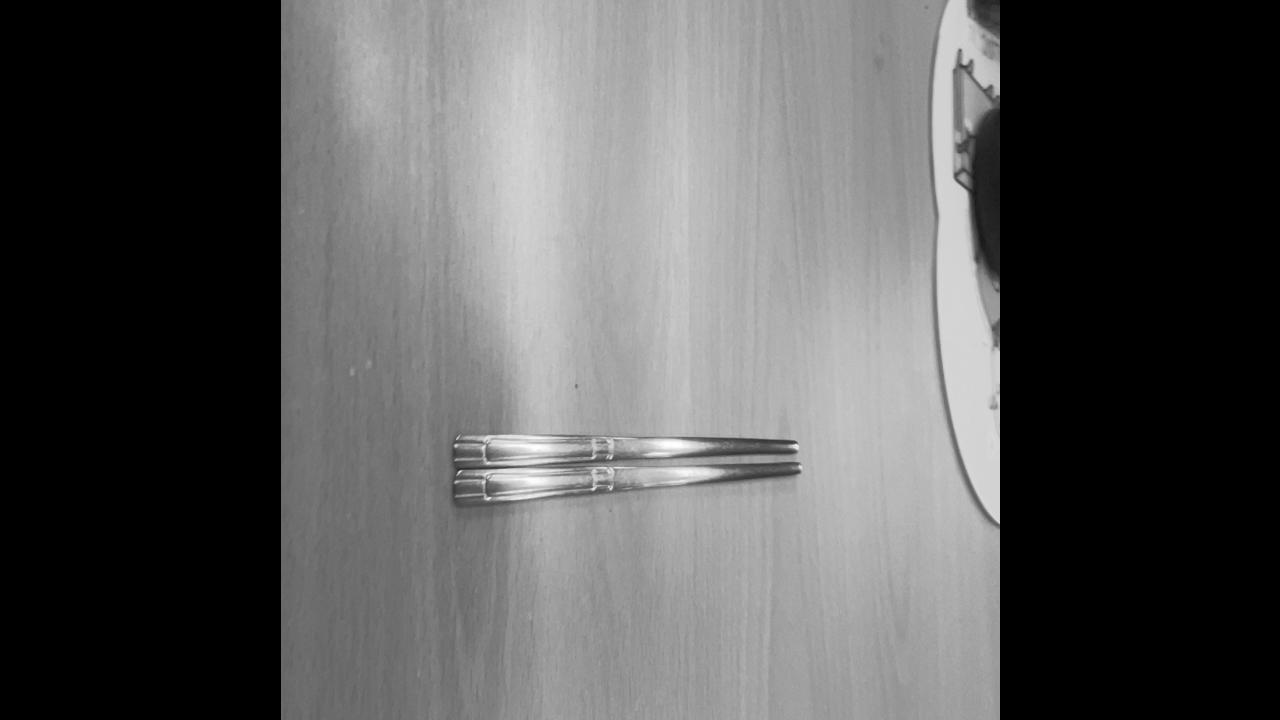chopstick: (450, 434, 800, 508)
